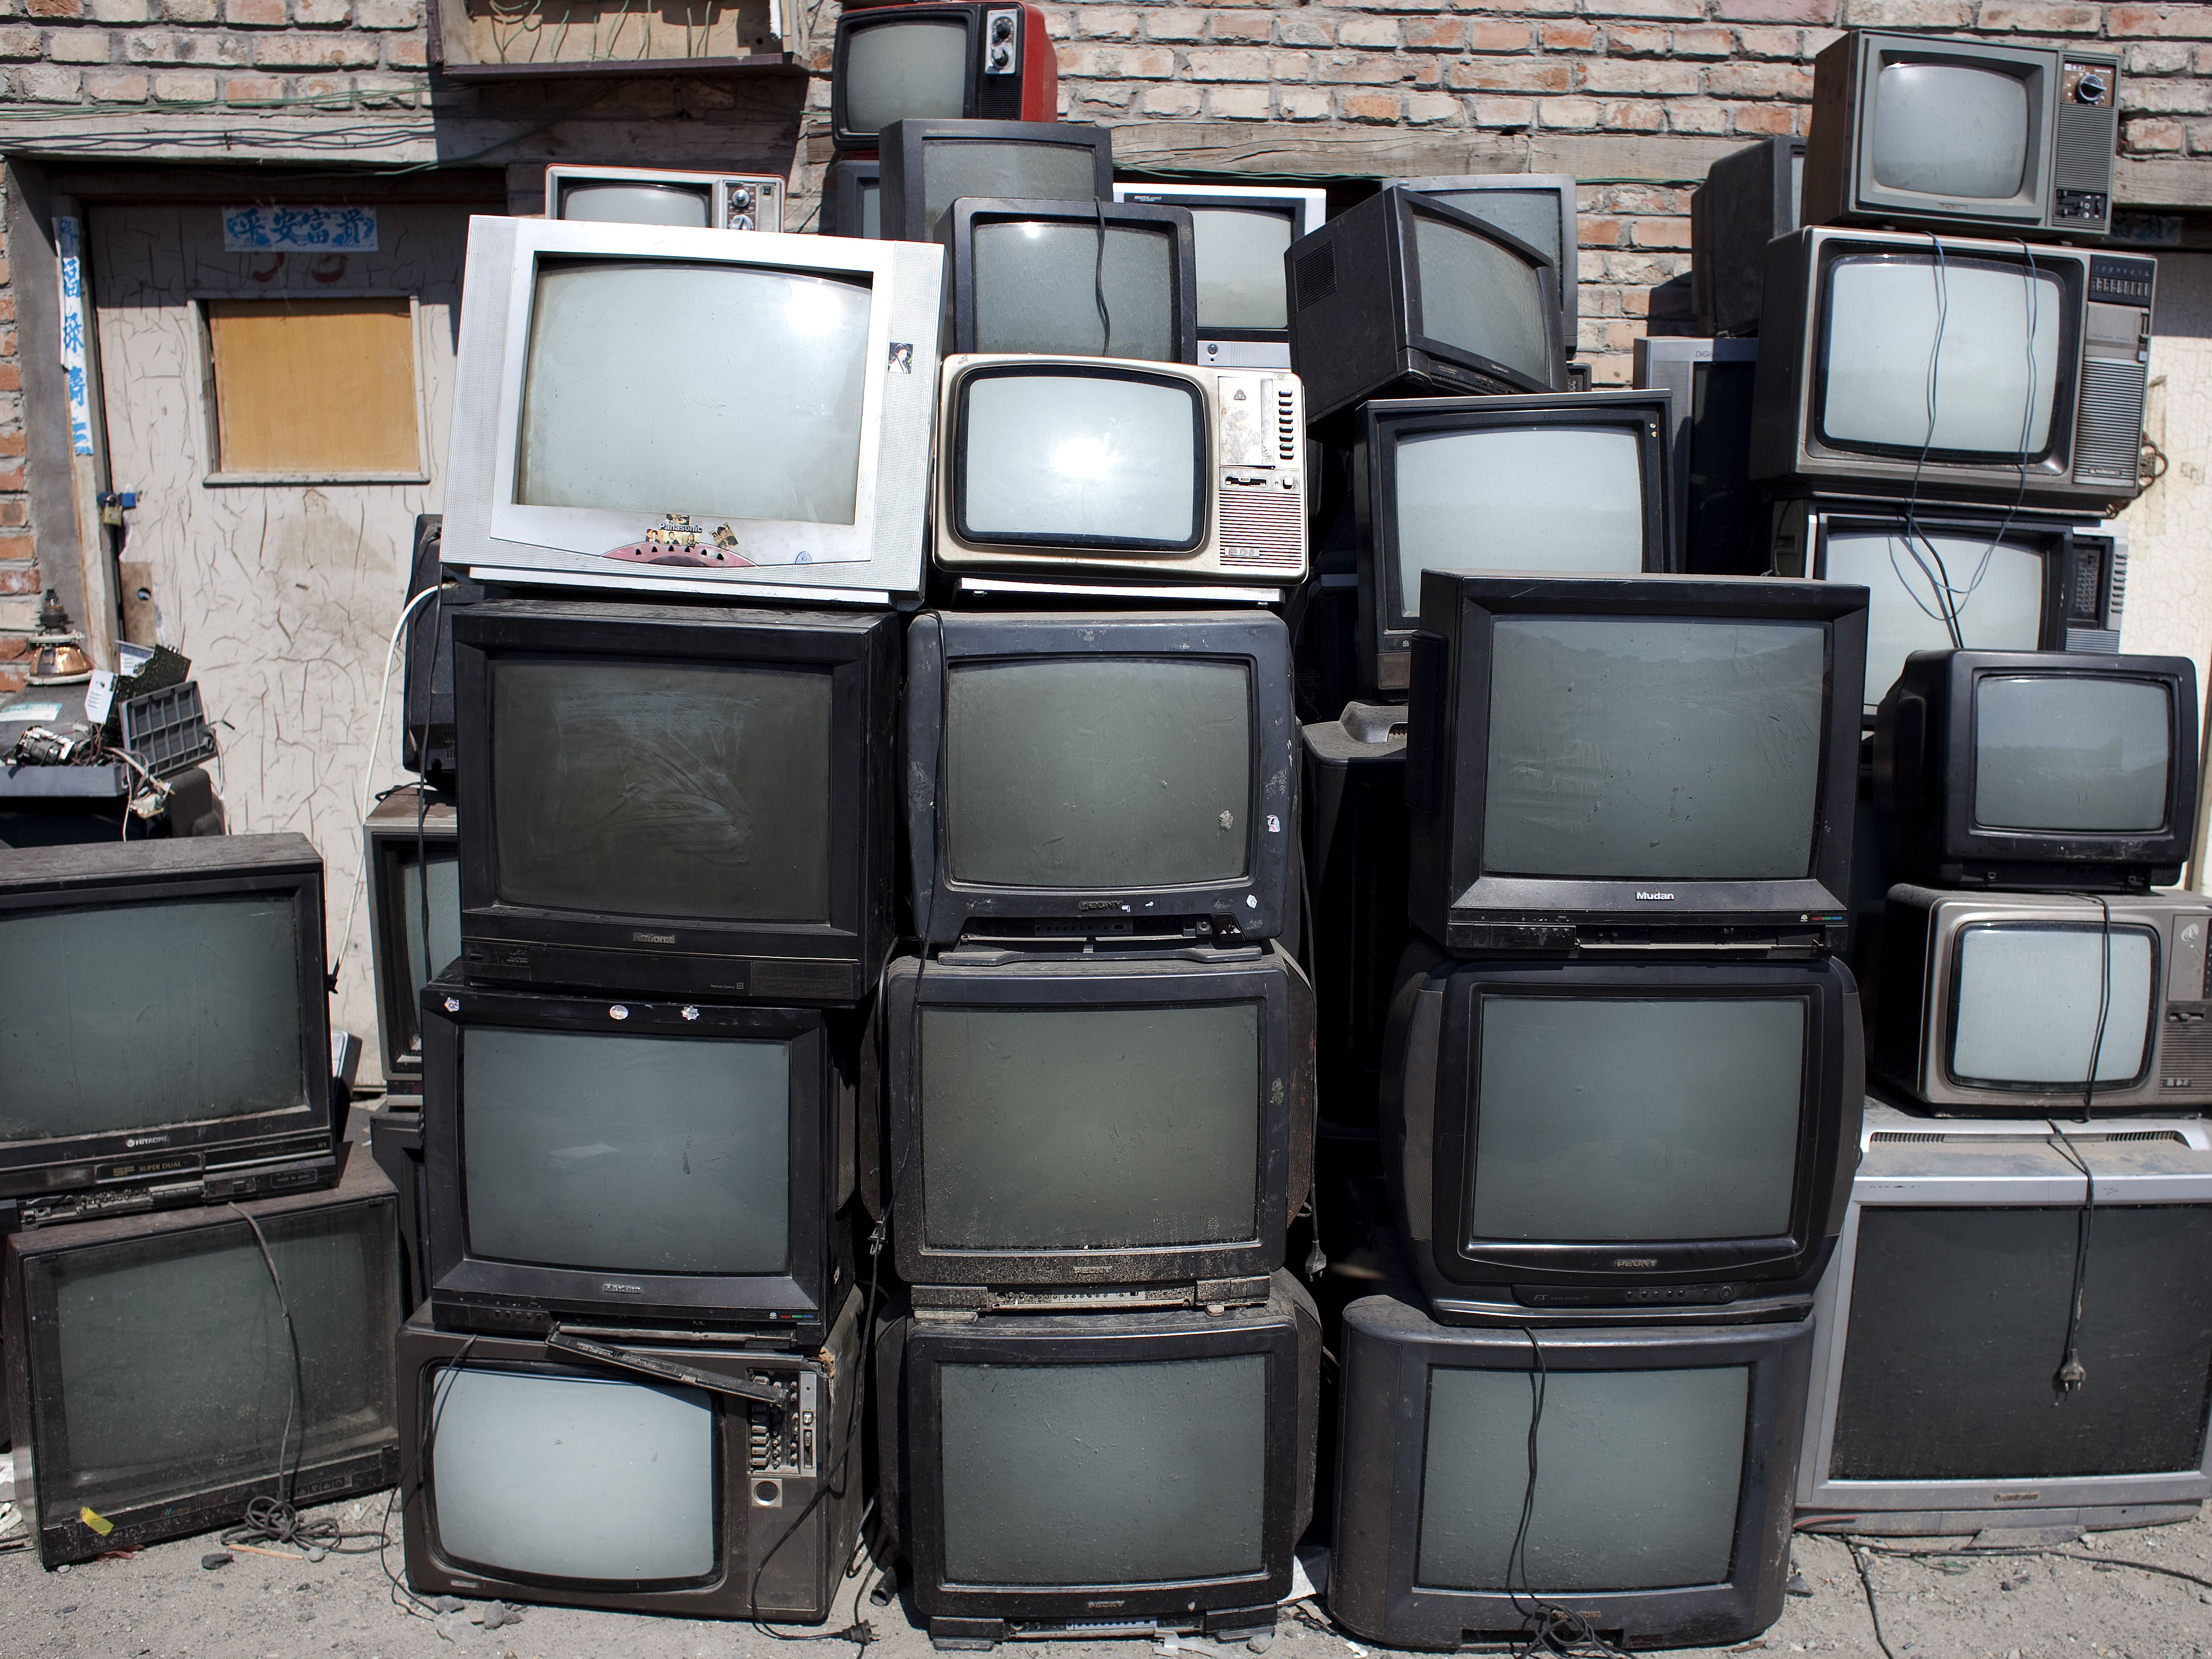tv: (1420, 545, 1888, 955), (441, 598, 887, 1004), (1392, 967, 1844, 1312), (2, 835, 355, 1190), (937, 342, 1341, 626), (1813, 23, 2134, 254), (1914, 633, 2203, 877)
